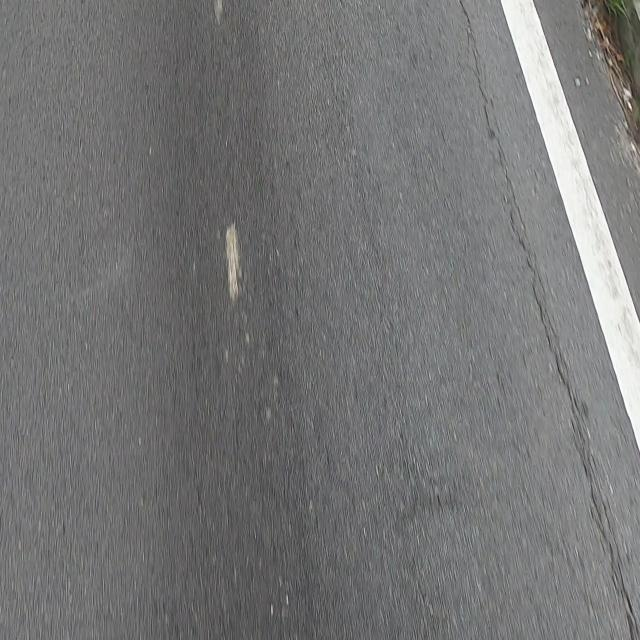Retak-Memanjang: (506, 221, 635, 640), (458, 0, 495, 142)
